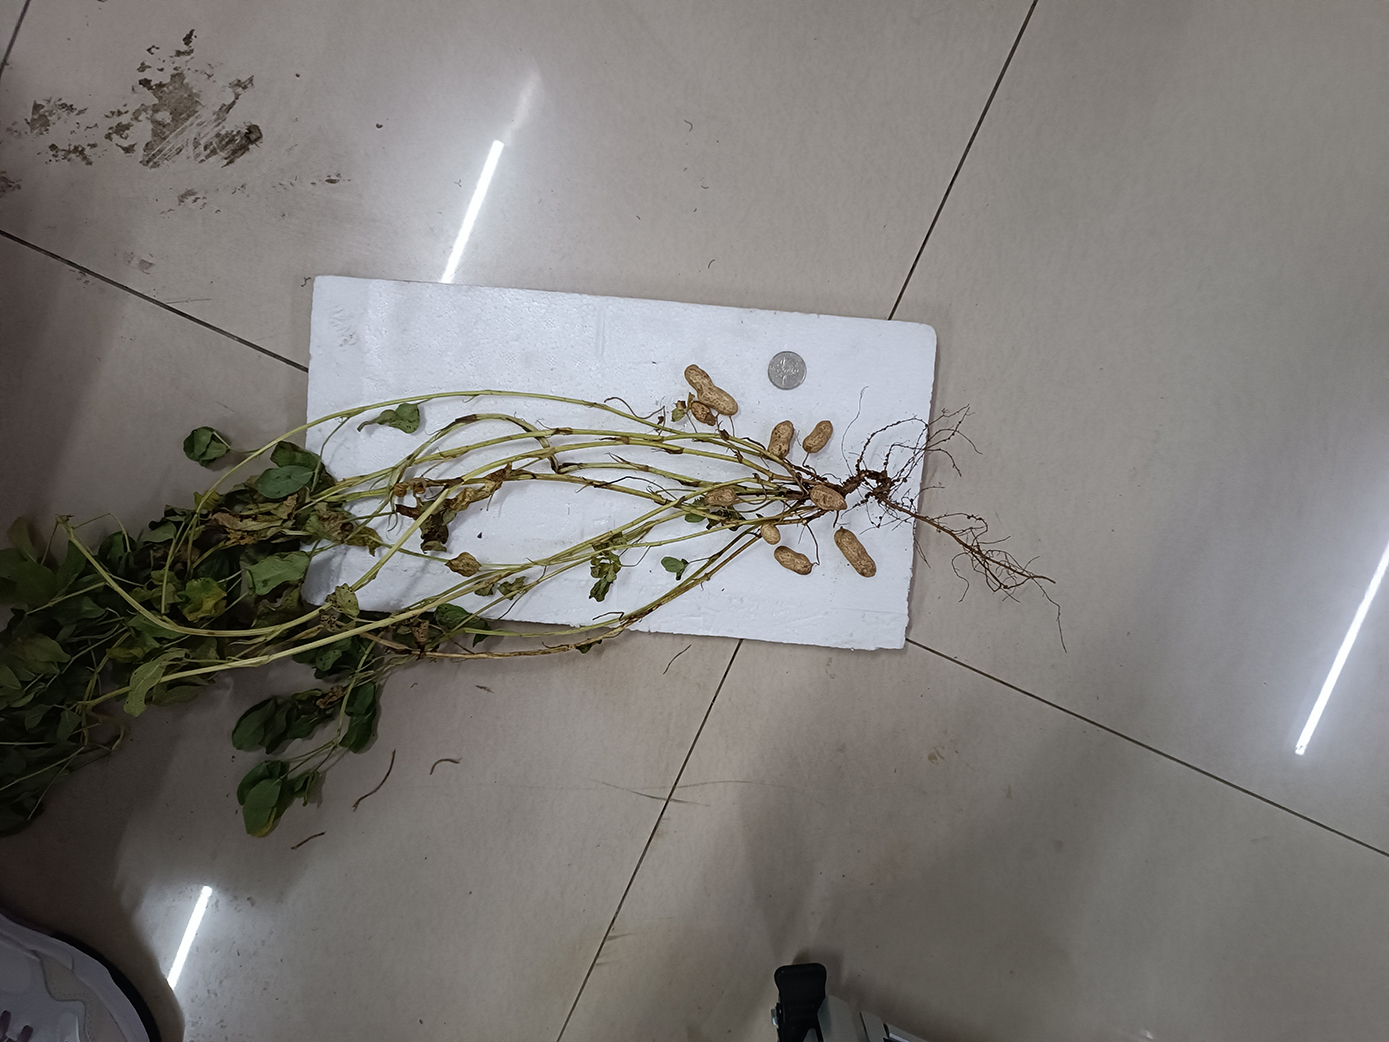h: (683, 363, 738, 417), (833, 528, 877, 578), (774, 545, 812, 576), (810, 482, 848, 511), (768, 420, 795, 458), (802, 420, 833, 452), (704, 485, 736, 506), (760, 521, 782, 545)
l: (691, 403, 716, 426)
